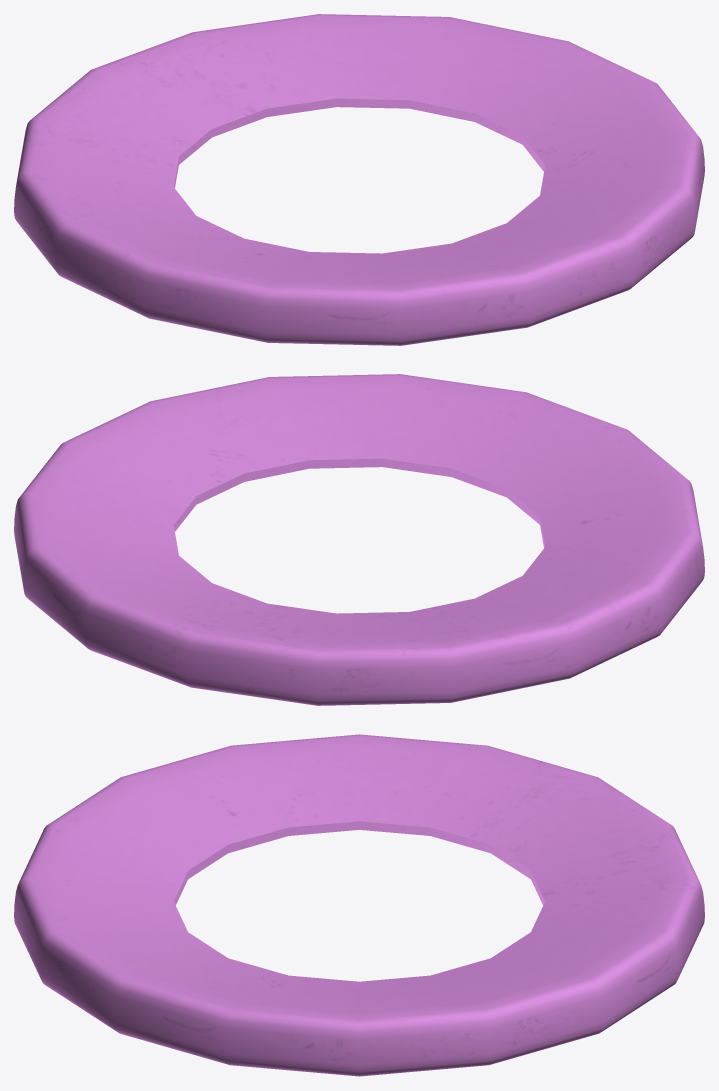
File: VERIVERY_04.glb
3 renders of one model, top to bottom at view 1: azimuth 30°, elevation 25°; view 2: azimuth 150°, elevation 25°; view 3: azimuth 270°, elevation 25°, orthographic.
Visible parts, largest first — view 1: VERIVERY_04; view 2: VERIVERY_04; view 3: VERIVERY_04.
Part boxes in pixels (<box>): VERIVERY_04: <box>14,14,704,345</box>; VERIVERY_04: <box>14,374,704,705</box>; VERIVERY_04: <box>14,734,704,1076</box>.
Size of the model in its own units: 0.1925 by 0.0161 by 0.1884.
Materials: 1 (1 with a texture image).
